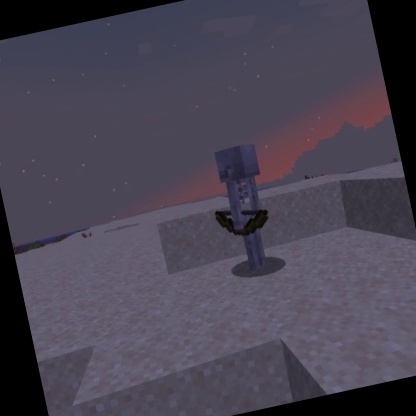skeleton: (198, 139, 285, 281)
